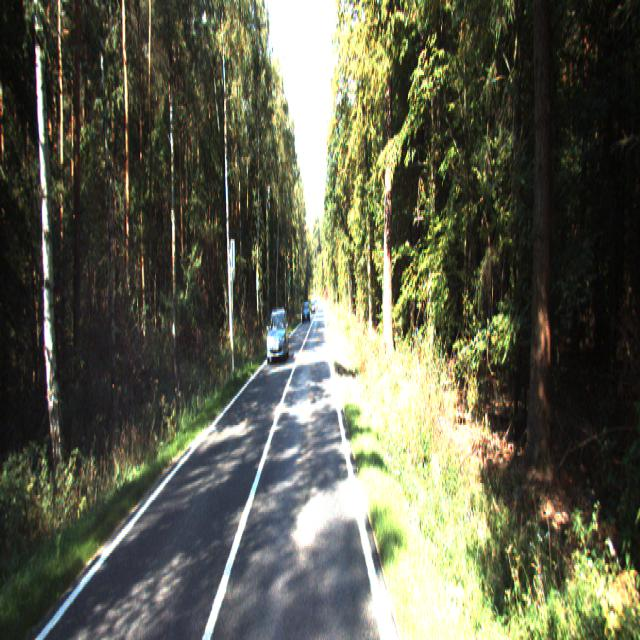Car: (266, 305, 290, 364)
